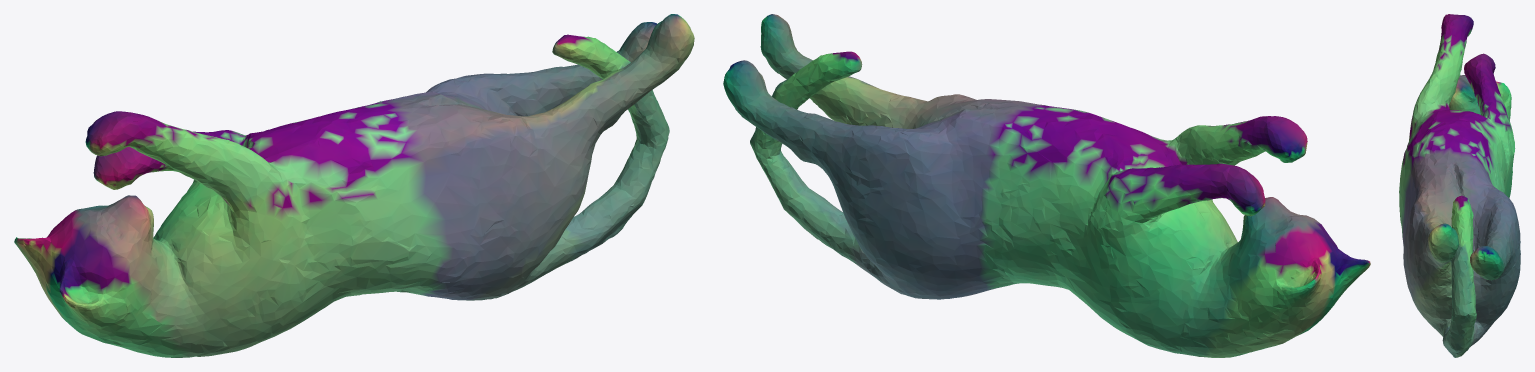
Rendered from cat-15.off.obj.
The picture shows the model from 3 angles, left to right: view 1: azimuth 30°, elevation 25°; view 2: azimuth 150°, elevation 25°; view 3: azimuth 270°, elevation 25°; orthographic projection. The views are drawn at different scales.
Size of the model in its own units: 1.73 by 0.7056 by 0.4018.
